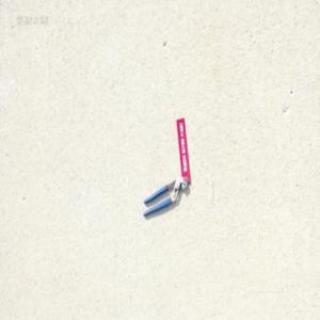LuggageTagtrack_idkeyframe: (175, 115, 190, 182)
Pliertrack_idkeyframe: (142, 176, 187, 216)
